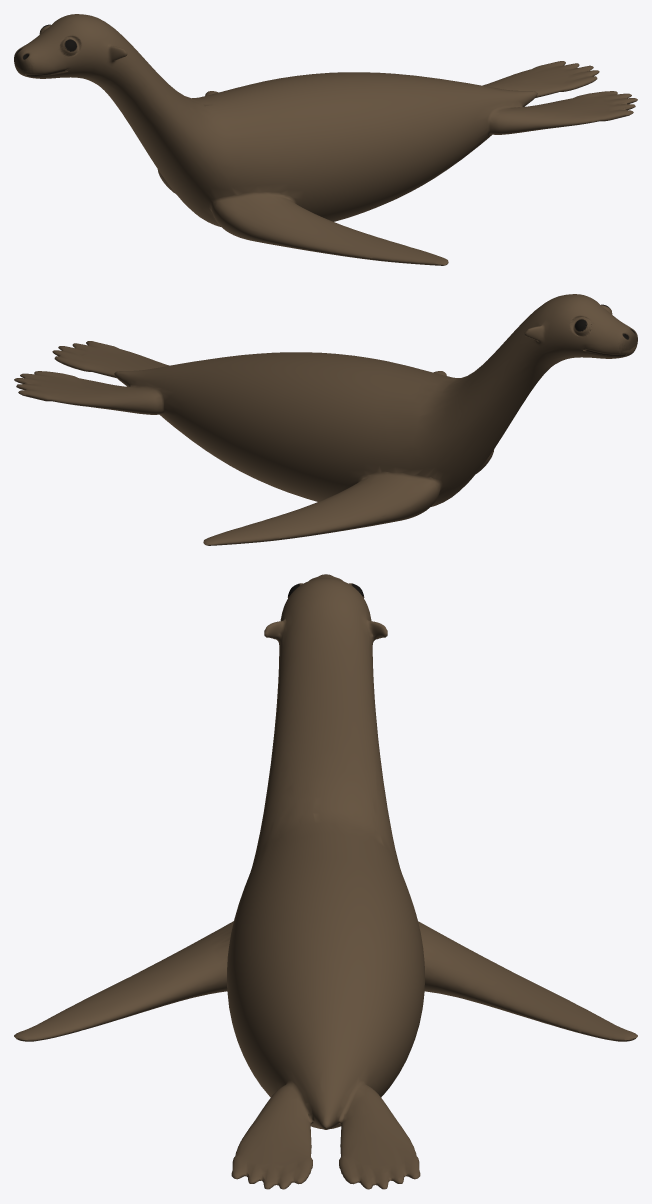
3 views of the same model, one above another, from view 1: azimuth 30°, elevation 25°; view 2: azimuth 150°, elevation 25°; view 3: azimuth 270°, elevation 25° (orthographic). The views are drawn at different scales.
Parts seen in each view (by area): view 1: NEW433_Continuous_Skin; view 2: NEW433_Continuous_Skin; view 3: NEW433_Continuous_Skin.
Part boxes in pixels (left/top/right/bottom): NEW433_Continuous_Skin: left=14, top=14, right=637, bottom=265; NEW433_Continuous_Skin: left=14, top=294, right=637, bottom=545; NEW433_Continuous_Skin: left=14, top=574, right=637, bottom=1189.
Bounding box in the file's own units: 1.58 × 0.6535 × 1.09.
